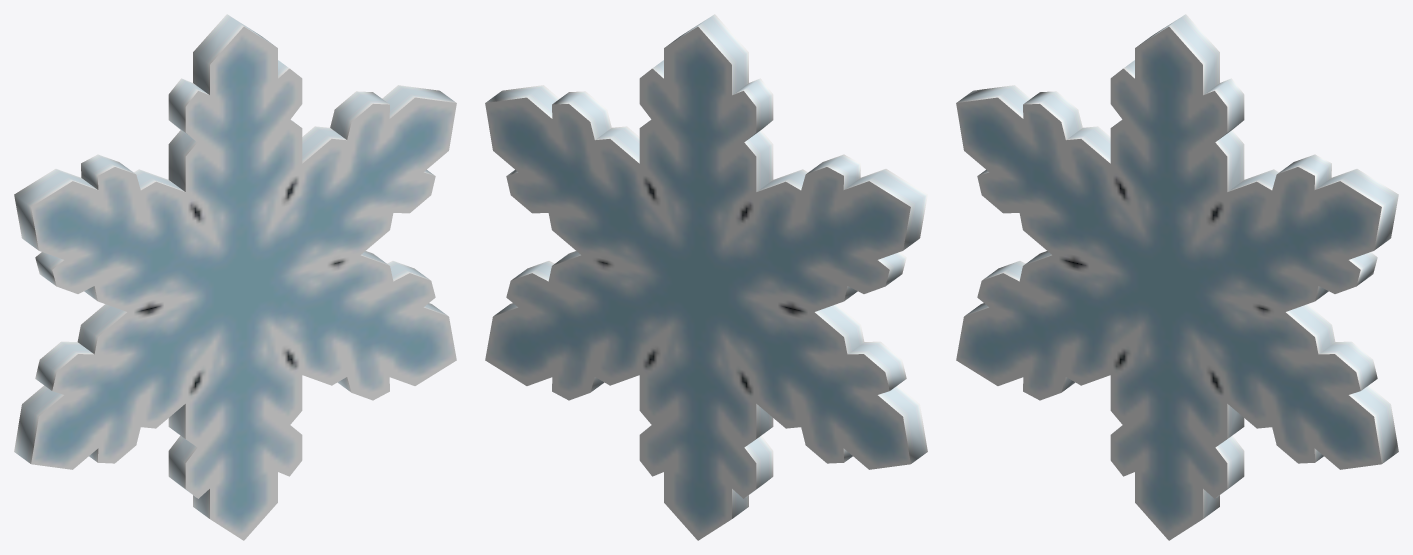
File: static.ico.obj
3 renders of one model, left to right at view 1: azimuth 30°, elevation 25°; view 2: azimuth 150°, elevation 25°; view 3: azimuth 330°, elevation 25°, orthographic.
Size of the model in its own units: 4.13 by 4.76 by 0.2849.
1 material, 1 textured.
